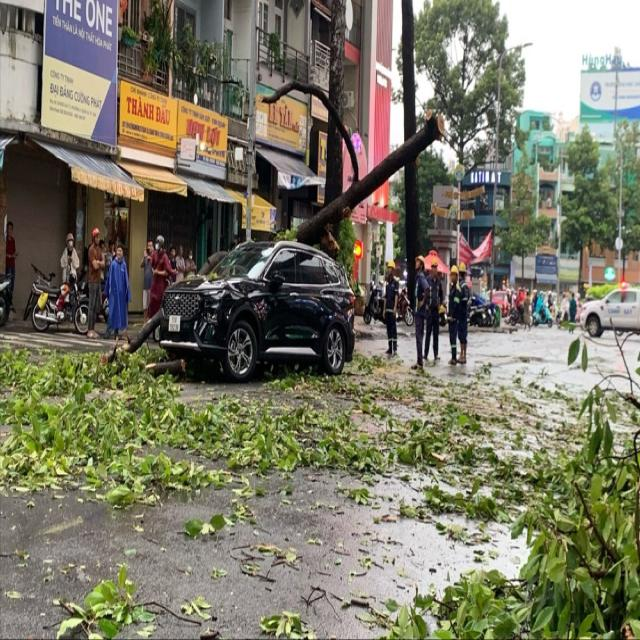Accident: (142, 237, 360, 388)
